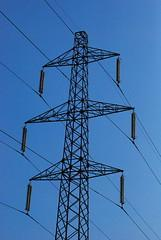power_tower: (19, 27, 136, 240)
